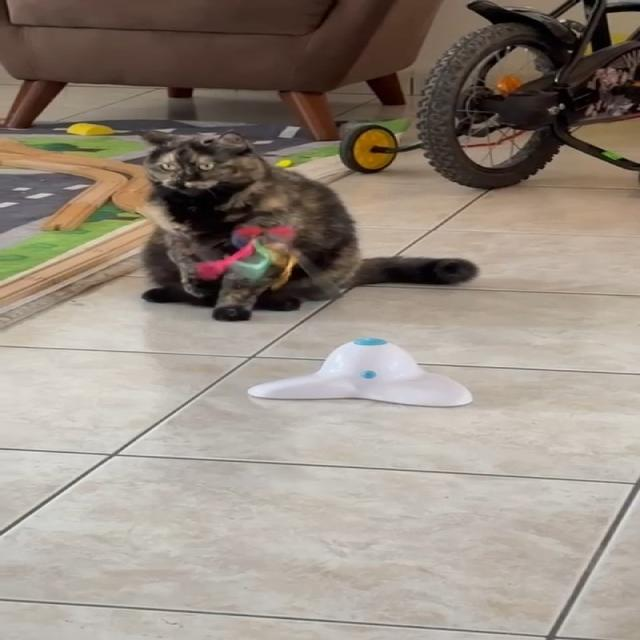authorized: (134, 129, 478, 322)
